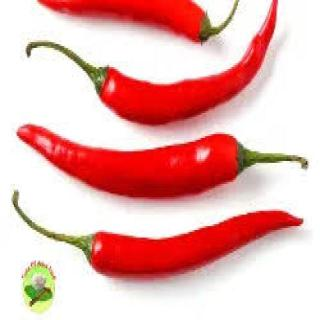Cabai Merah: (42, 38, 320, 130), (17, 125, 297, 198), (89, 209, 304, 275), (36, 1, 240, 43)
